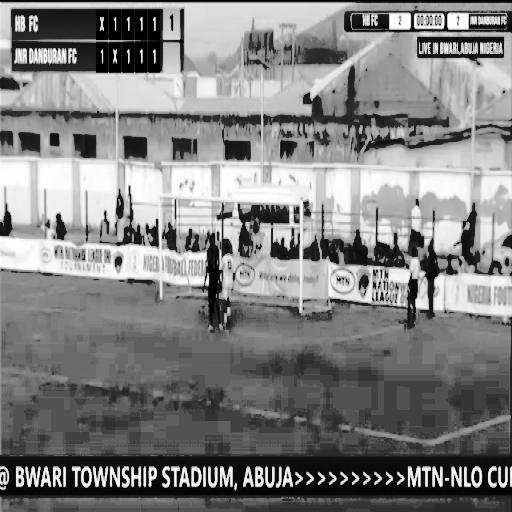keeper2: (218, 236, 240, 330)
referee: (408, 239, 422, 338)
team2: (204, 242, 223, 326)
